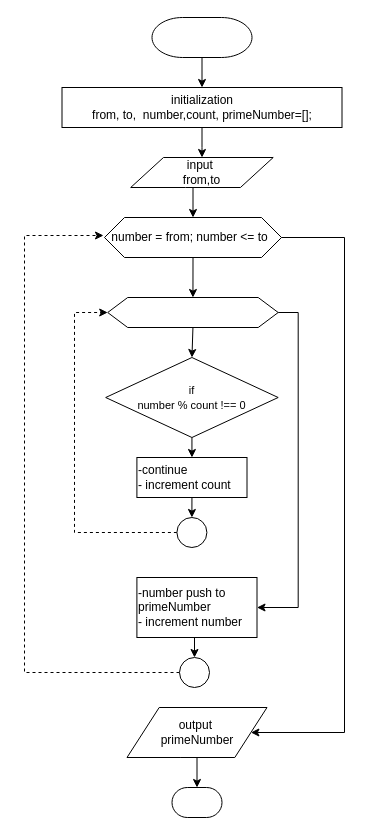
This 370x835 diagram has some shape labels left out. The centre of each missing label's shape, as x and y in pixels:
"count =2; count < number" belongs at point 192,312.
"end" belongs at point 196,802.
"start" belongs at point 201,37.
